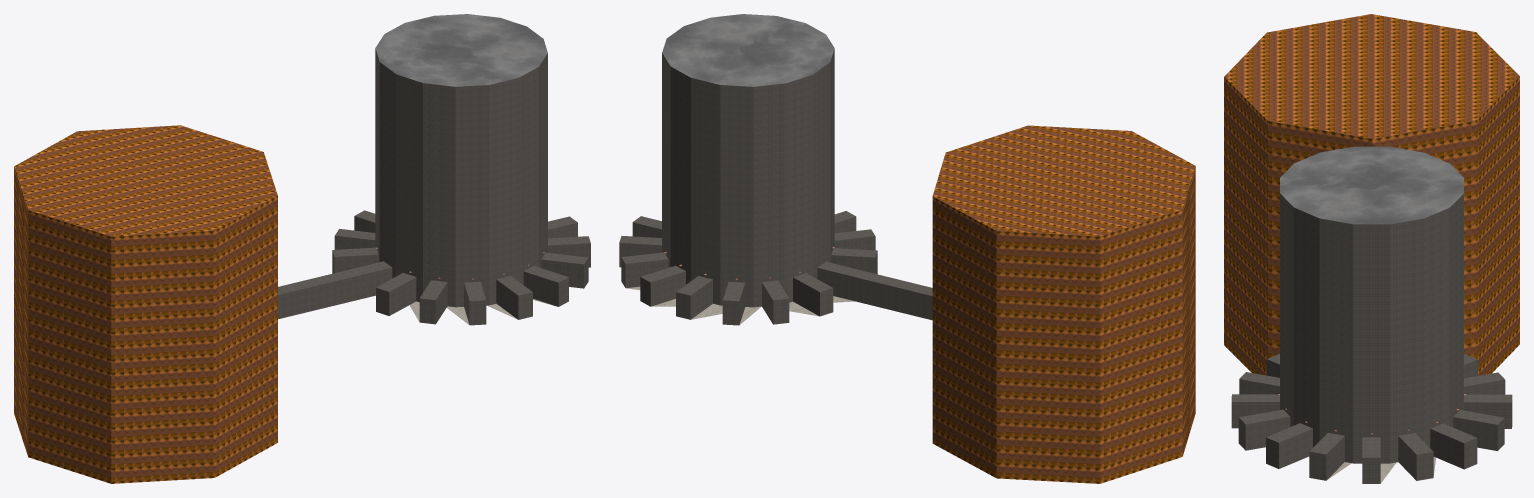
Rendered from HUB.fbx.
3 views of the same model, side by side, from view 1: azimuth 30°, elevation 25°; view 2: azimuth 150°, elevation 25°; view 3: azimuth 270°, elevation 25° (orthographic). The views are drawn at different scales.
Parts seen in each view (by area): view 1: Cylinder.012, HUBSky; view 2: Cylinder.012, HUBSky, floor; view 3: Cylinder.012, HUBSky, floor.
Part boxes in pixels (x1,y1,x2,y2): Cylinder.012: (14,48,590,483); HUBSky: (375,14,547,86); Cylinder.012: (619,49,1195,483); HUBSky: (662,14,834,86); floor: (619,267,855,324); Cylinder.012: (1224,14,1519,483); HUBSky: (1280,146,1463,224); floor: (1327,457,1435,483).
Bounding box in the file's own units: 329 × 173 × 143.
